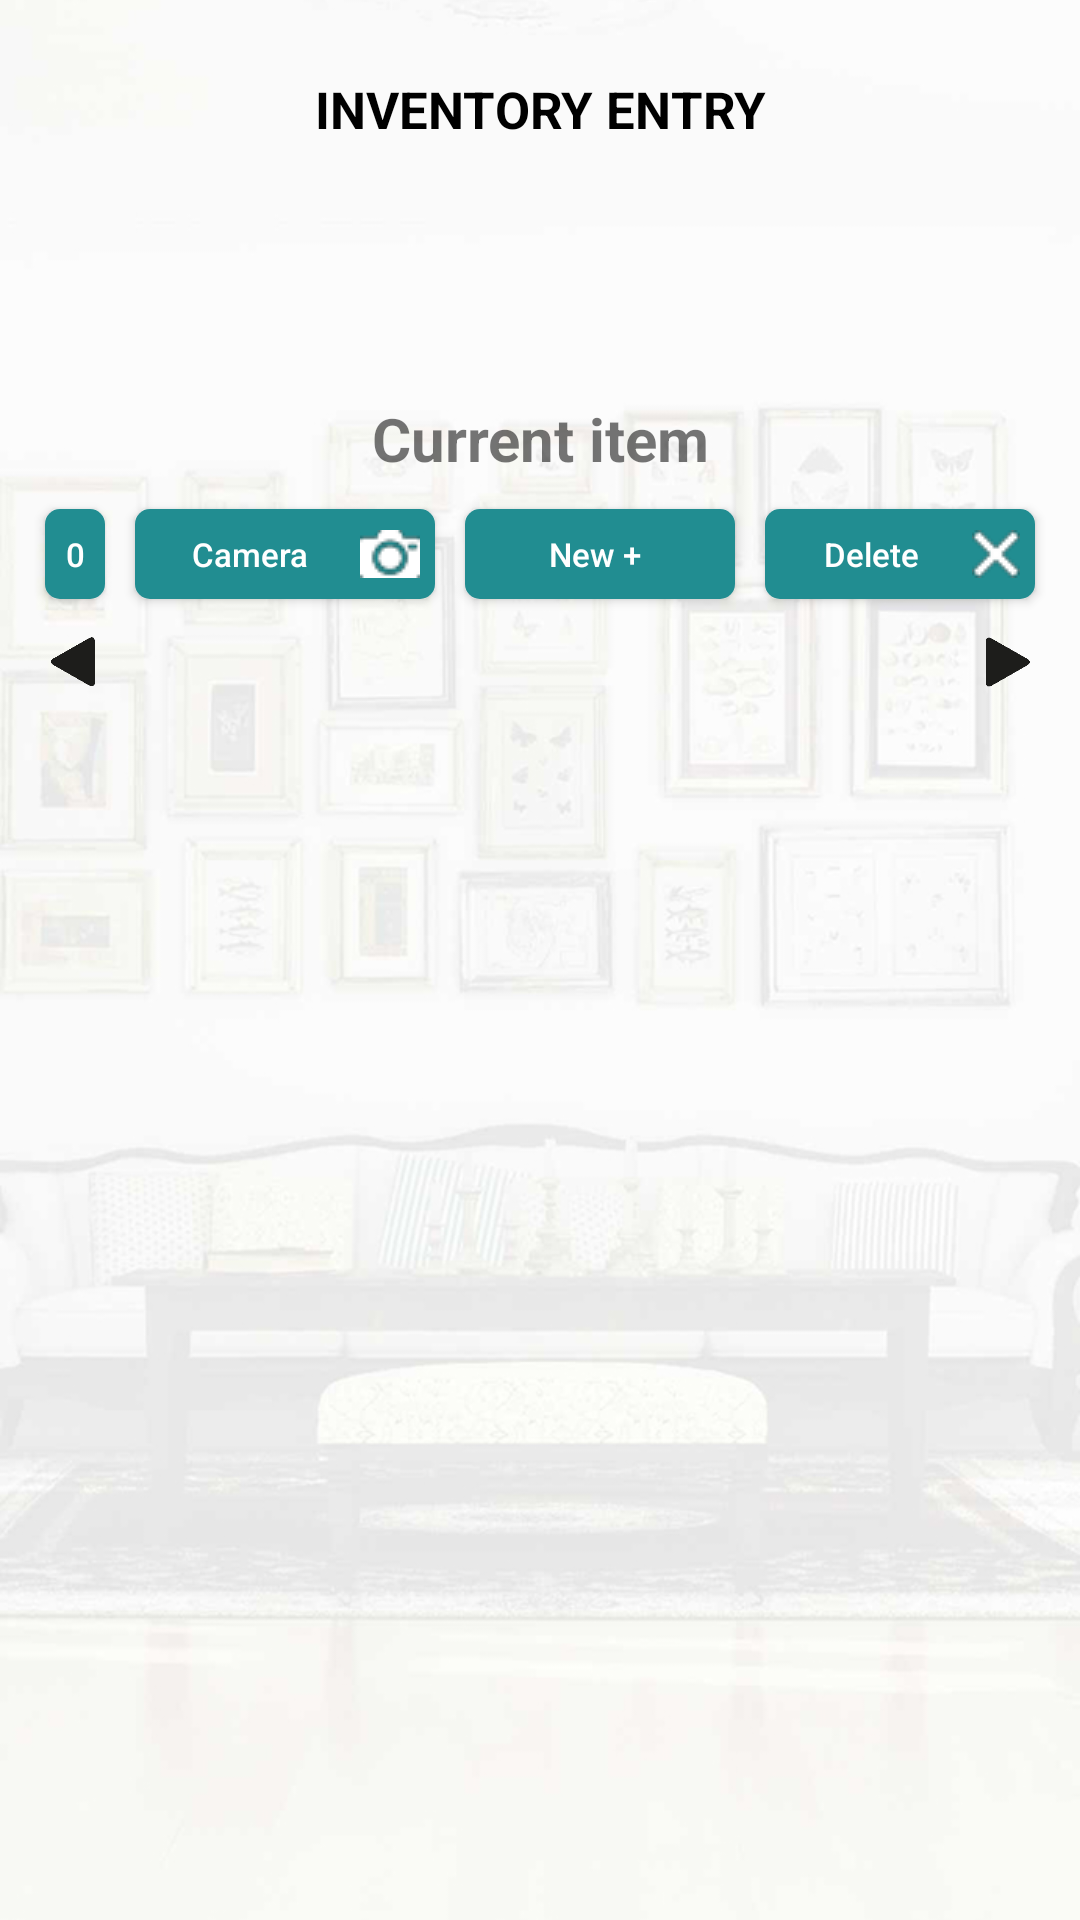

Where to tap for icons on this 1080w x 1920h app screen, as [x,y]:
left arrow: [73,661]
right arrow: [1003,662]
